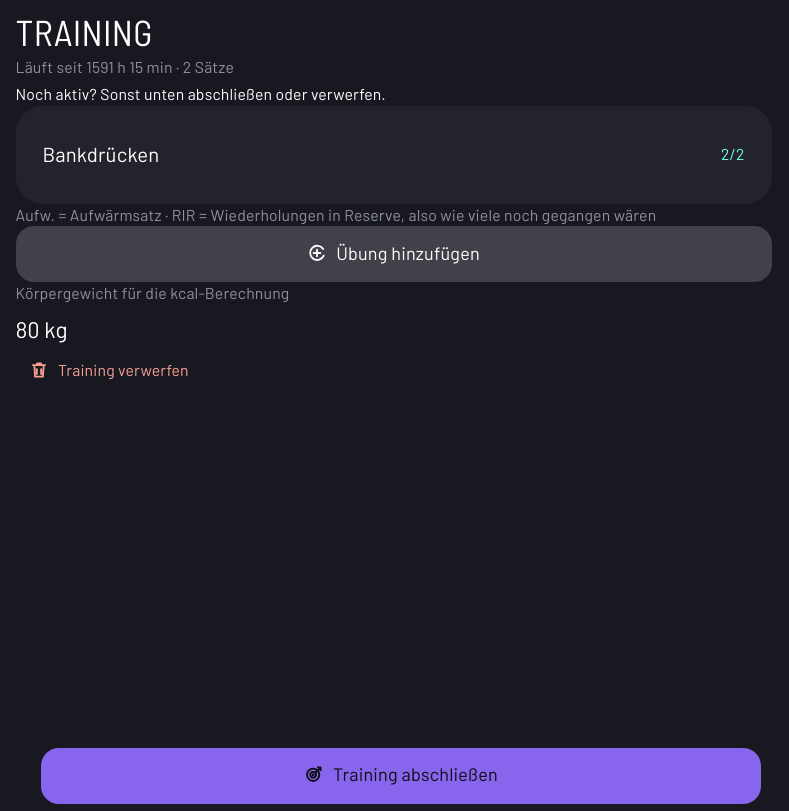
Test: WorkoutSessionPage › lists all logged sets, numbering only the working sets
What coordinates should you click on to do the following:
click the button "Bankdrücken"
I would click on:
 (101, 154)
Its box is [42,133,712,177].
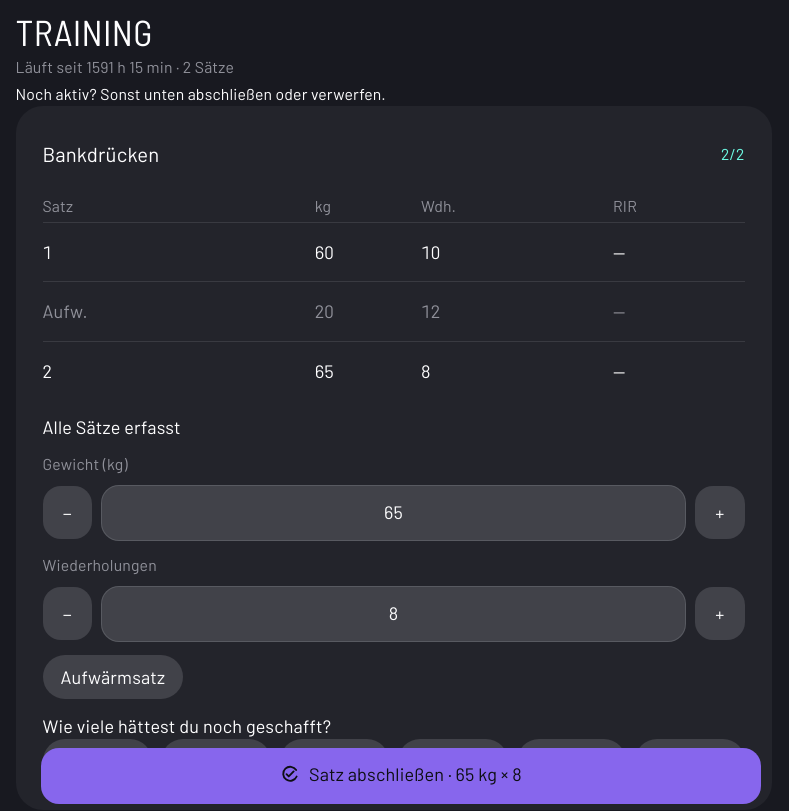
Result: the column heading "RIR" is shown at [613,190,744,222]
Result: the number of rows is 4 at [42,190,744,222]; [42,222,744,282]; [42,282,744,341]; [42,341,744,400]
Result: the button named "Satz 1 bearbeiten" is shown at [42,227,92,277]
